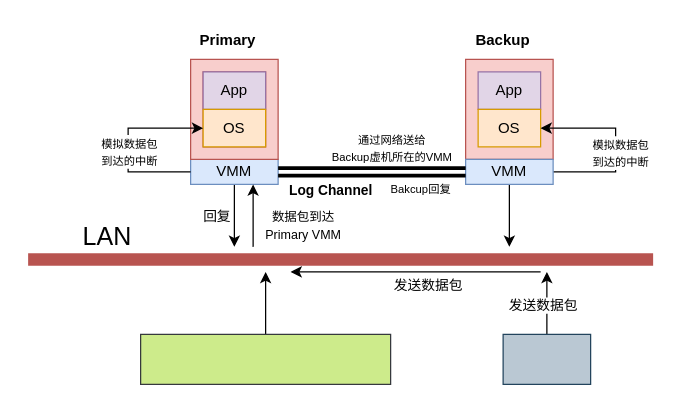
Image size: 681x406. Some labels were removed from this diagram. Here are the shapes that lost their labels. From the top down, the box of each, then its label:
(139, 333, 391, 384): Disk Server
(502, 333, 591, 384): Client
